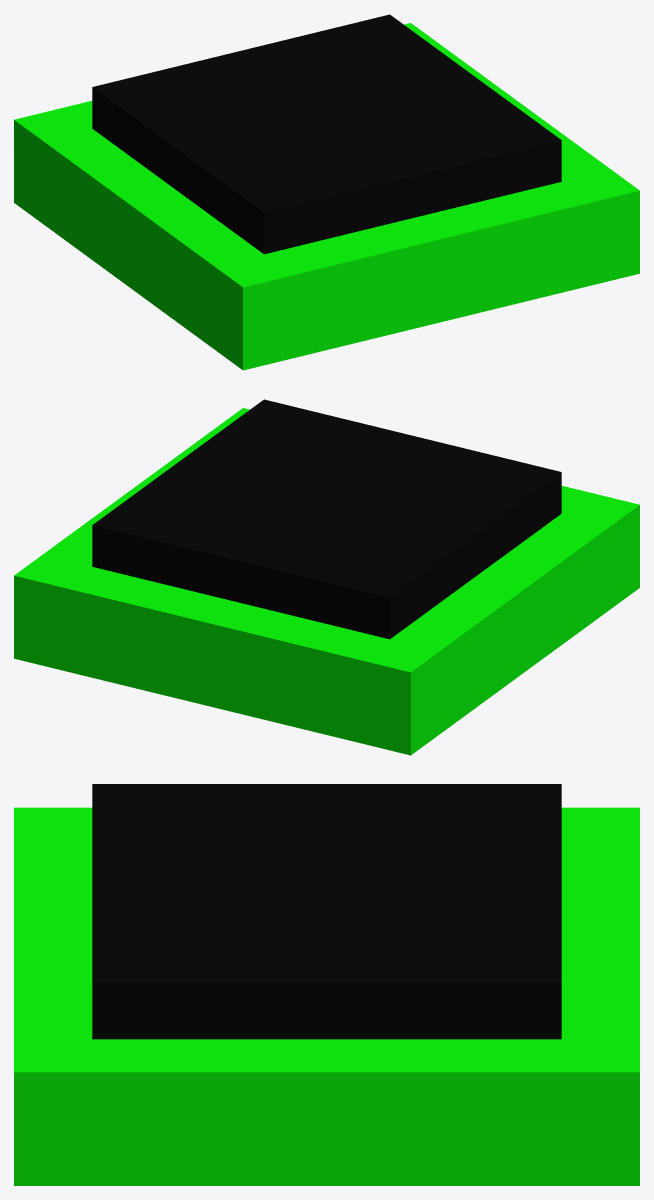
File: GreenHoldNote.obj
3 views of the same model, one above another, from view 1: azimuth 30°, elevation 25°; view 2: azimuth 150°, elevation 25°; view 3: azimuth 270°, elevation 25° (orthographic). The views are drawn at different scales.
Parts seen in each view (by area): view 1: Base, Top; view 2: Base, Top; view 3: Base, Top.
Boxes of the visible parts, x1,y1,x2,y2 form: Base: (14, 23, 639, 370); Top: (92, 14, 561, 254); Base: (14, 408, 639, 755); Top: (92, 399, 561, 639); Base: (14, 807, 639, 1185); Top: (92, 784, 561, 1039).
Size of the model in its own units: 2 by 0.6 by 2.
